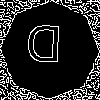D: (25, 25, 62, 72)
